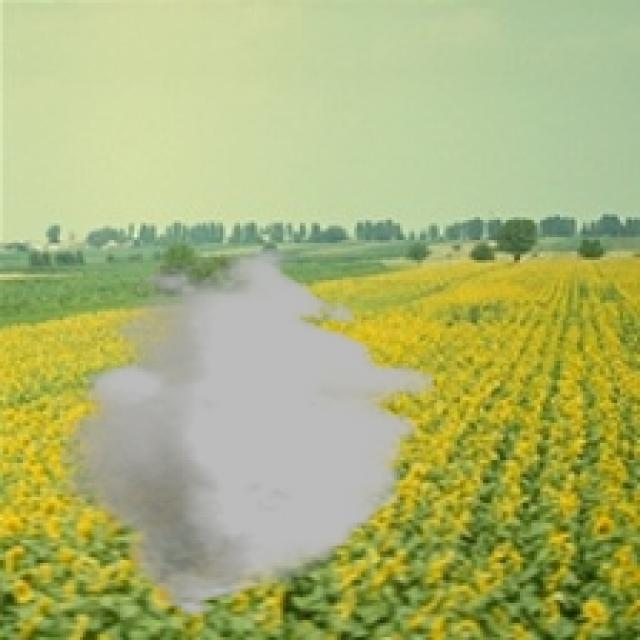Smoke: (59, 245, 434, 618)
